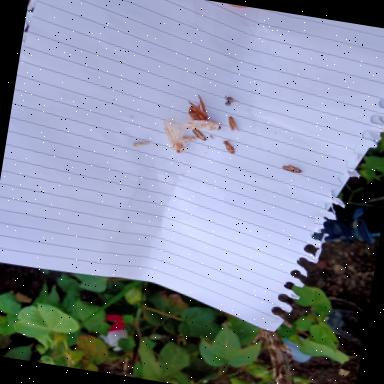abw: (158, 118, 205, 158), (182, 114, 224, 132), (132, 138, 150, 151)
pbw: (223, 116, 242, 133), (280, 164, 304, 176), (190, 128, 208, 142), (222, 140, 236, 154)
